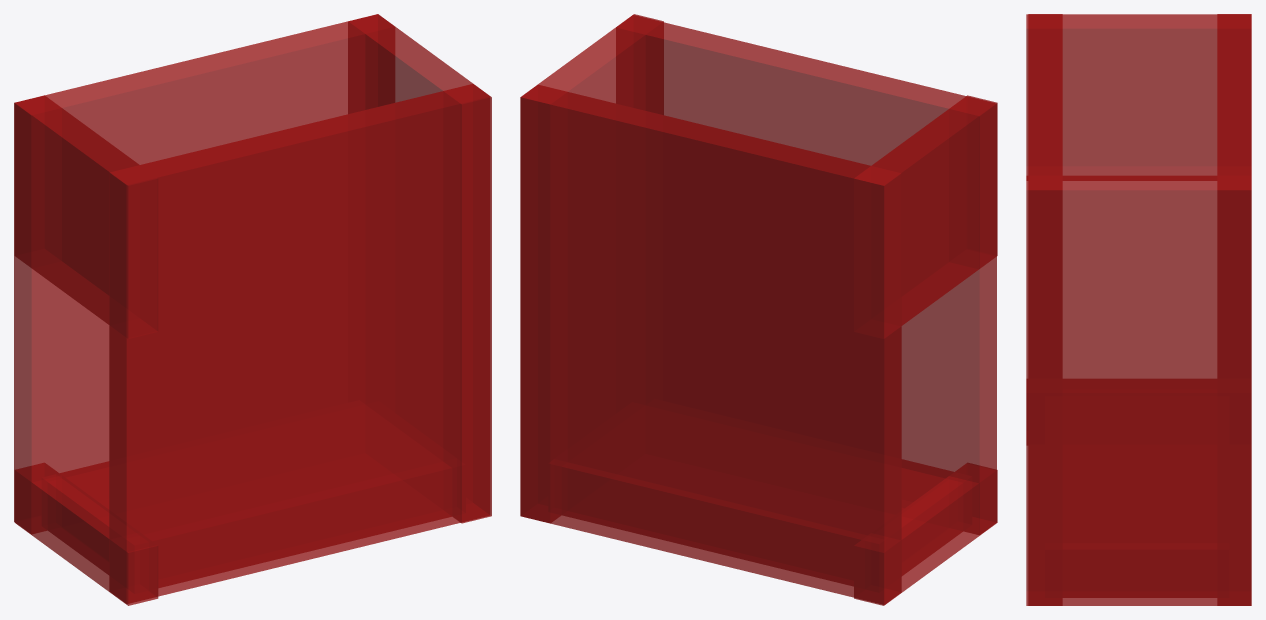
The model's file is SM_Bld_Wall_Booth_01_Collision.fbx.
The picture shows the model from 3 angles, left to right: view 1: azimuth 30°, elevation 25°; view 2: azimuth 150°, elevation 25°; view 3: azimuth 270°, elevation 25°; orthographic projection.
Visible parts, largest first — view 1: SM_Bld_Wall_Booth_01_Collision; view 2: SM_Bld_Wall_Booth_01_Collision; view 3: SM_Bld_Wall_Booth_01_Collision.
Part boxes in pixels (bbox=[...]): SM_Bld_Wall_Booth_01_Collision: bbox=[14, 14, 491, 605]; SM_Bld_Wall_Booth_01_Collision: bbox=[520, 14, 997, 605]; SM_Bld_Wall_Booth_01_Collision: bbox=[1026, 14, 1251, 605].
Bounding box in the file's own units: 273 × 301 × 147.
